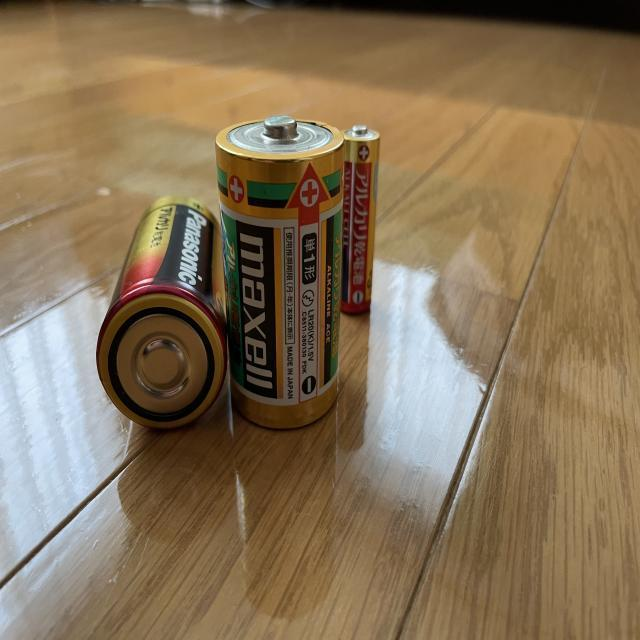Hazard: (211, 111, 348, 433), (93, 194, 234, 434), (337, 124, 380, 321)
